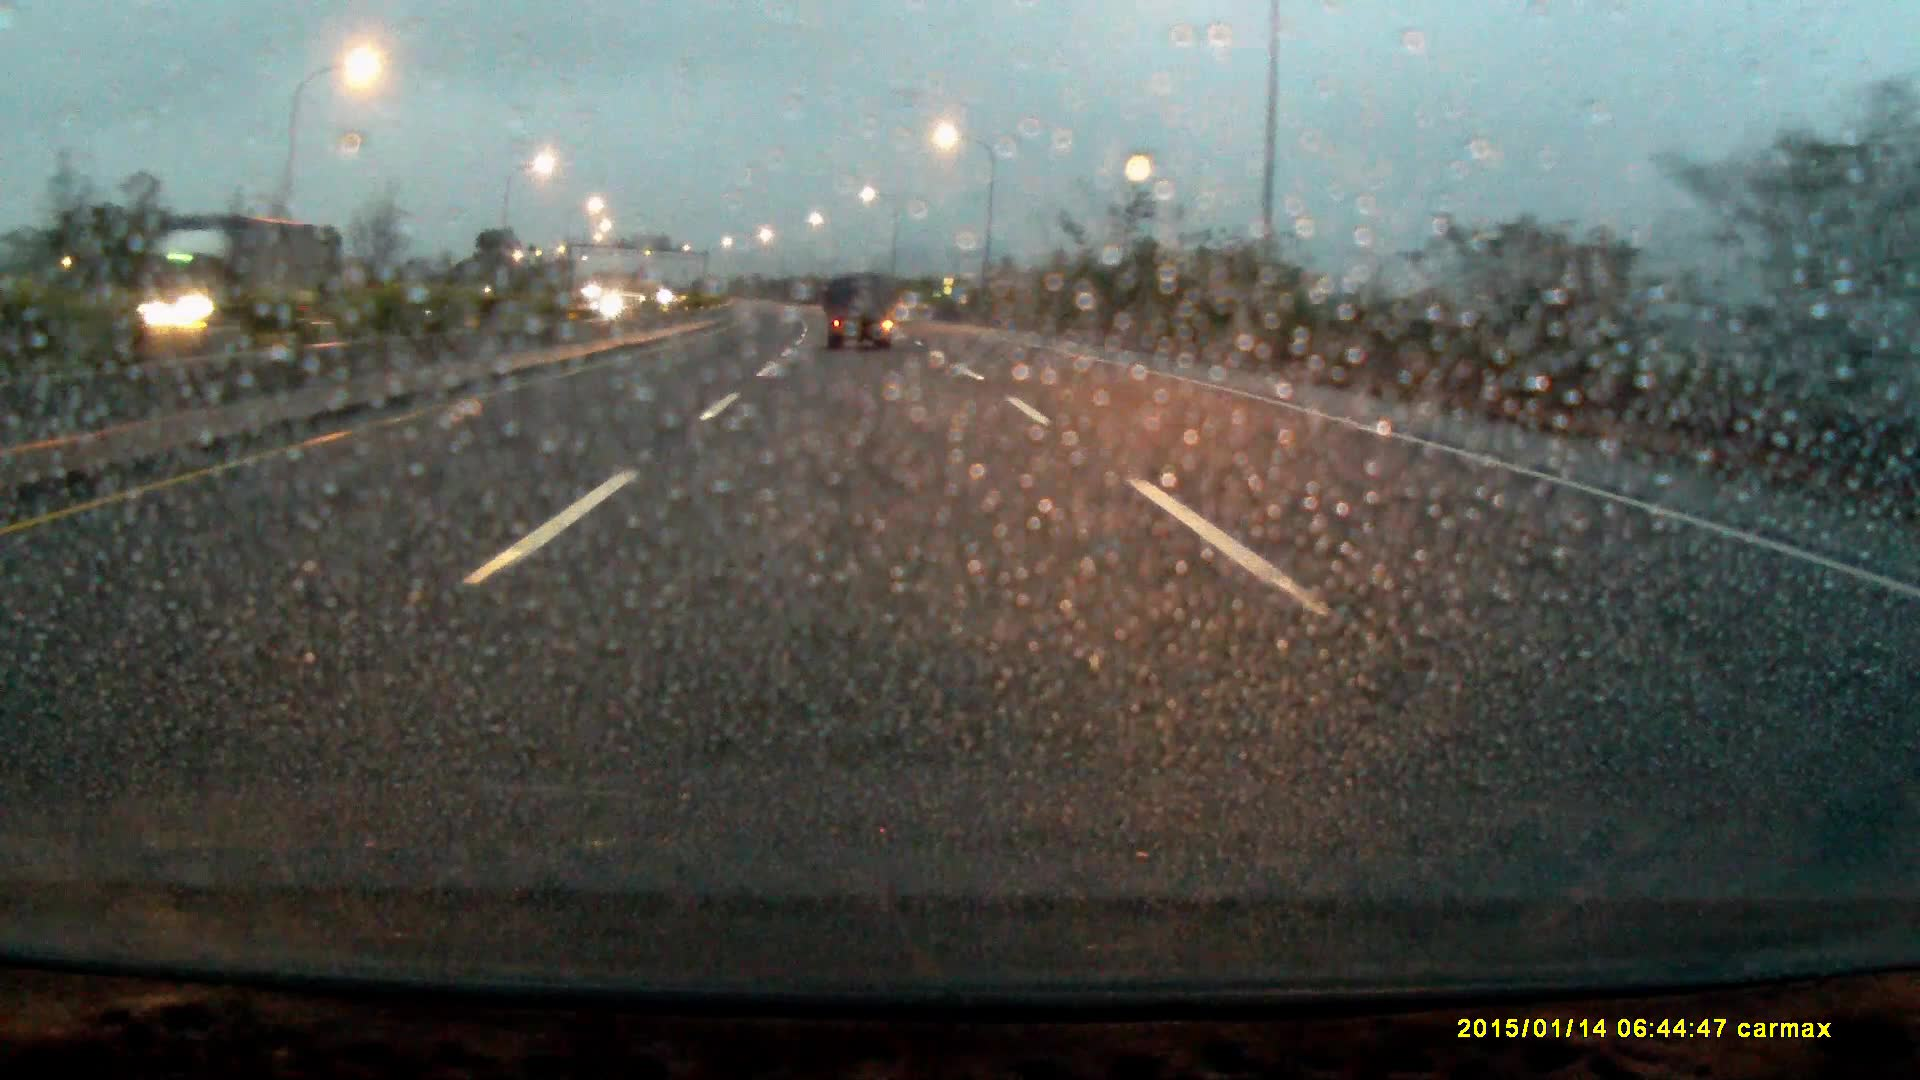vehicle: (113, 218, 338, 371), (825, 277, 899, 349), (599, 291, 640, 314)
